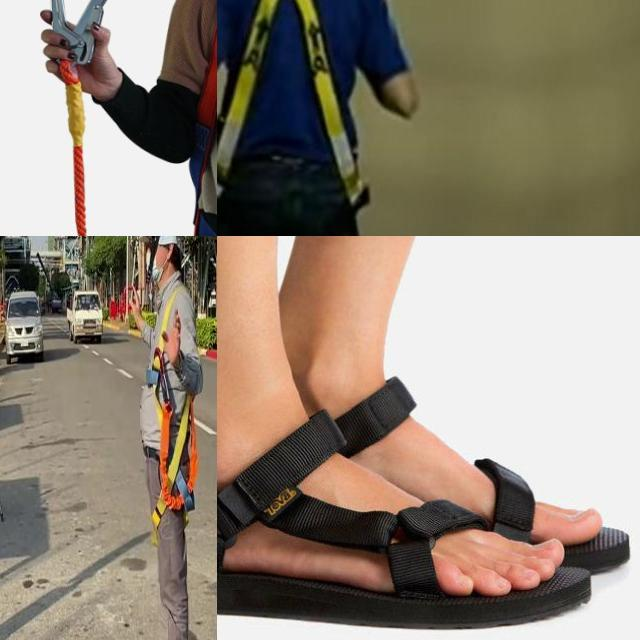Harness: (217, 0, 373, 227), (153, 348, 199, 530)
Sandals: (217, 392, 595, 631)
